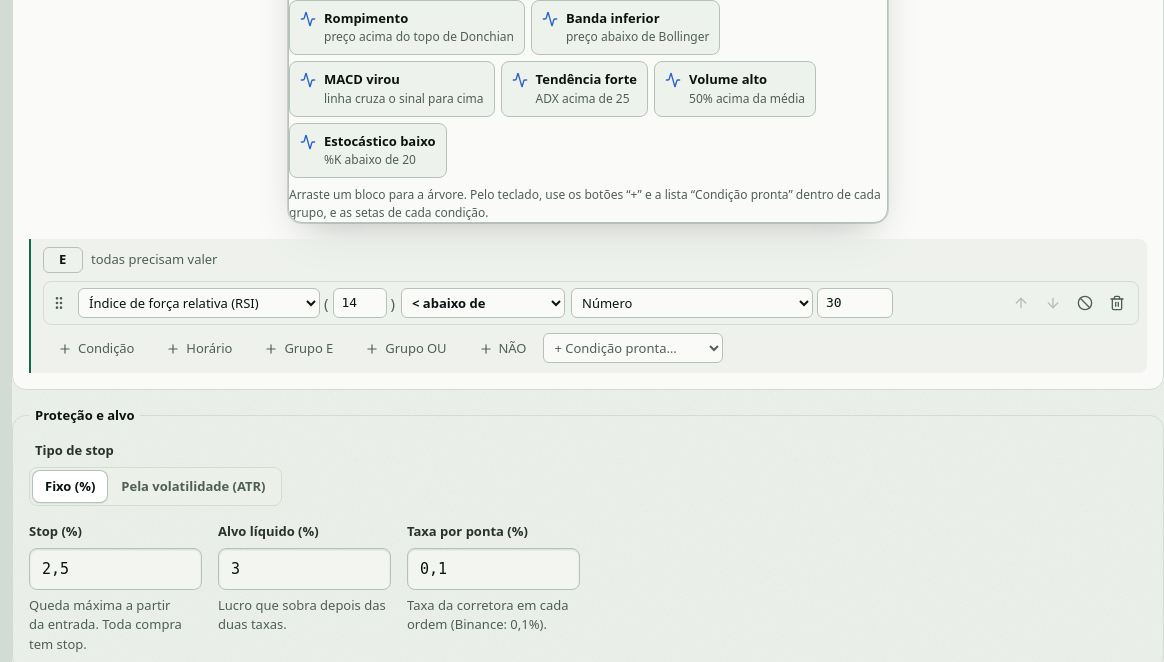
Construtor de estratégias › mostra a regra em palavras com os rótulos do domínio e atualiza ao editar
(page scrolled)
Select "> acima de" in the dropdown named "Comparação" at (483, 303), box [401,288,565,318]
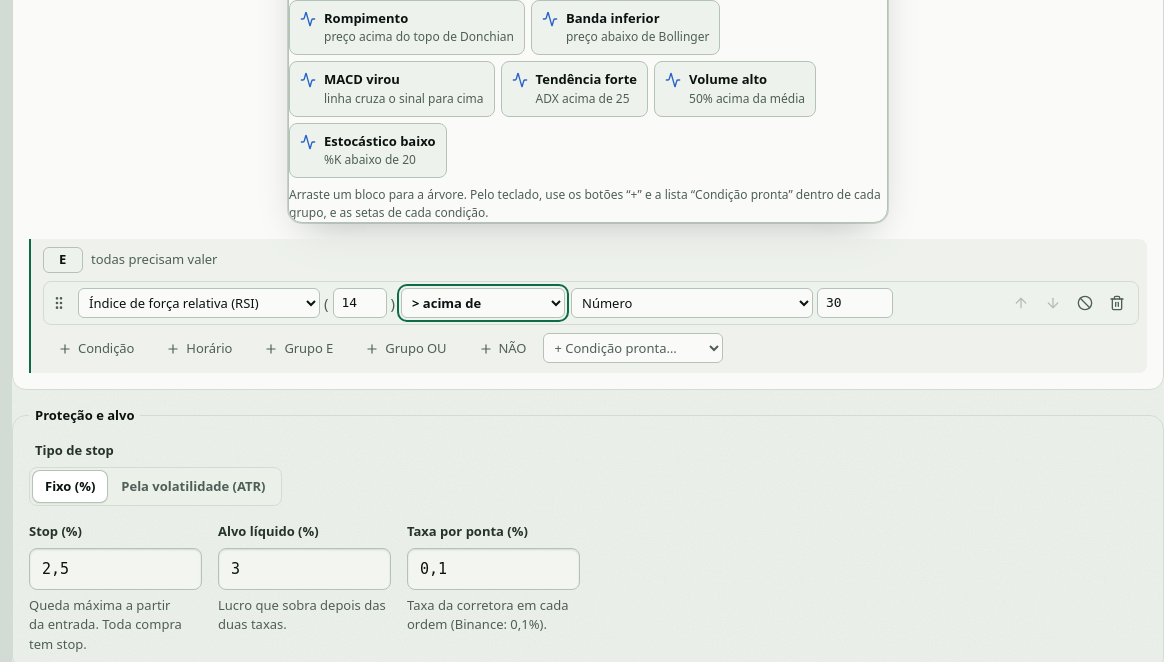
Replace the text in the field named "Lado direito: valor" with "70,5" at (855, 303), box [817,288,893,318]
(page scrolled)
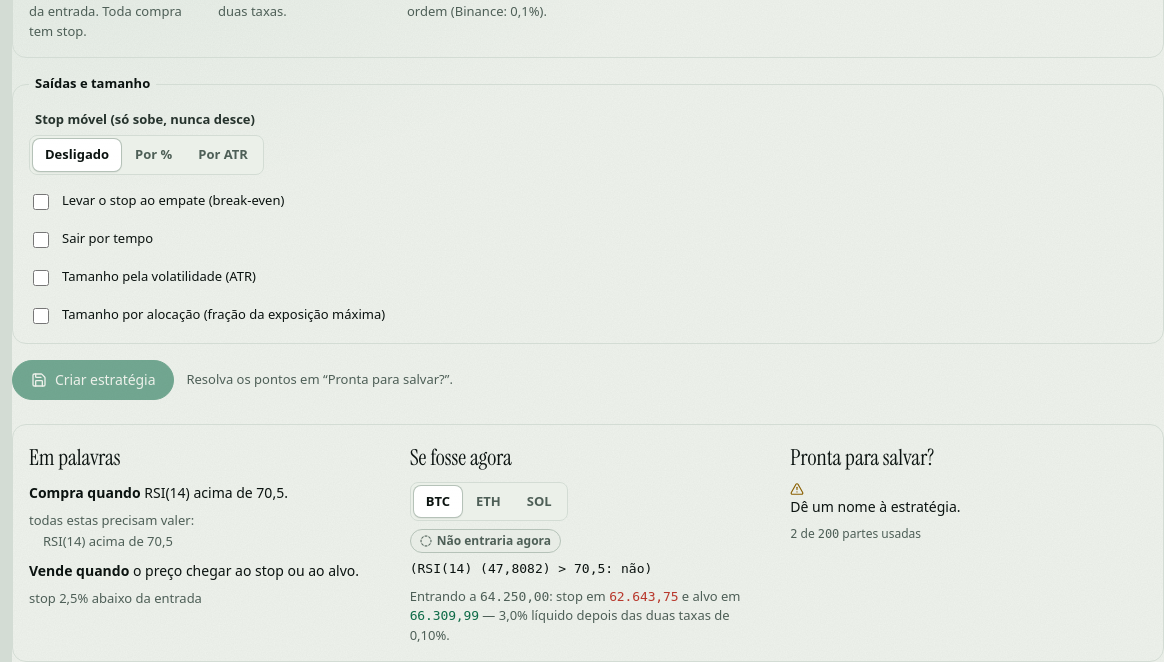
Check: the text "Compra quando RSI(14) acima de 70,5." is shown, box [29,483,288,502]
